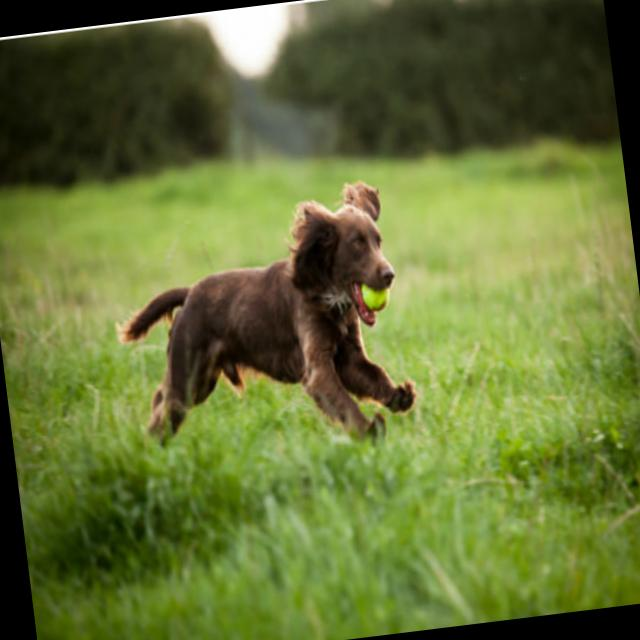dogs: (105, 172, 423, 478)
